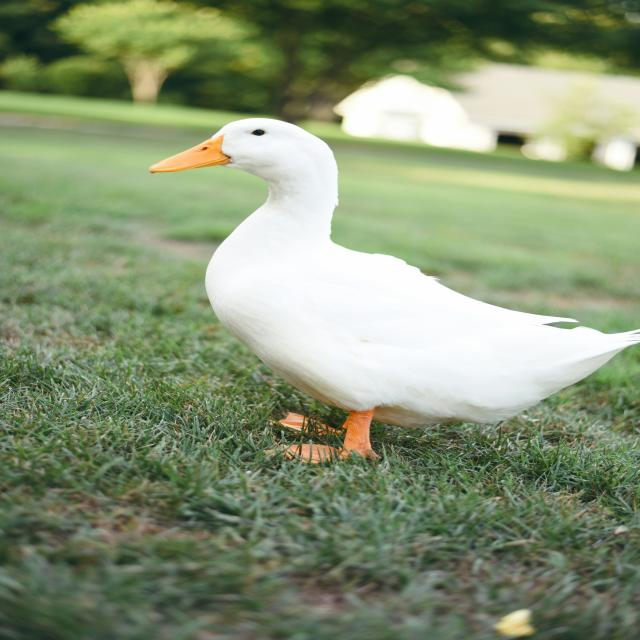ducks: (137, 99, 640, 471)
